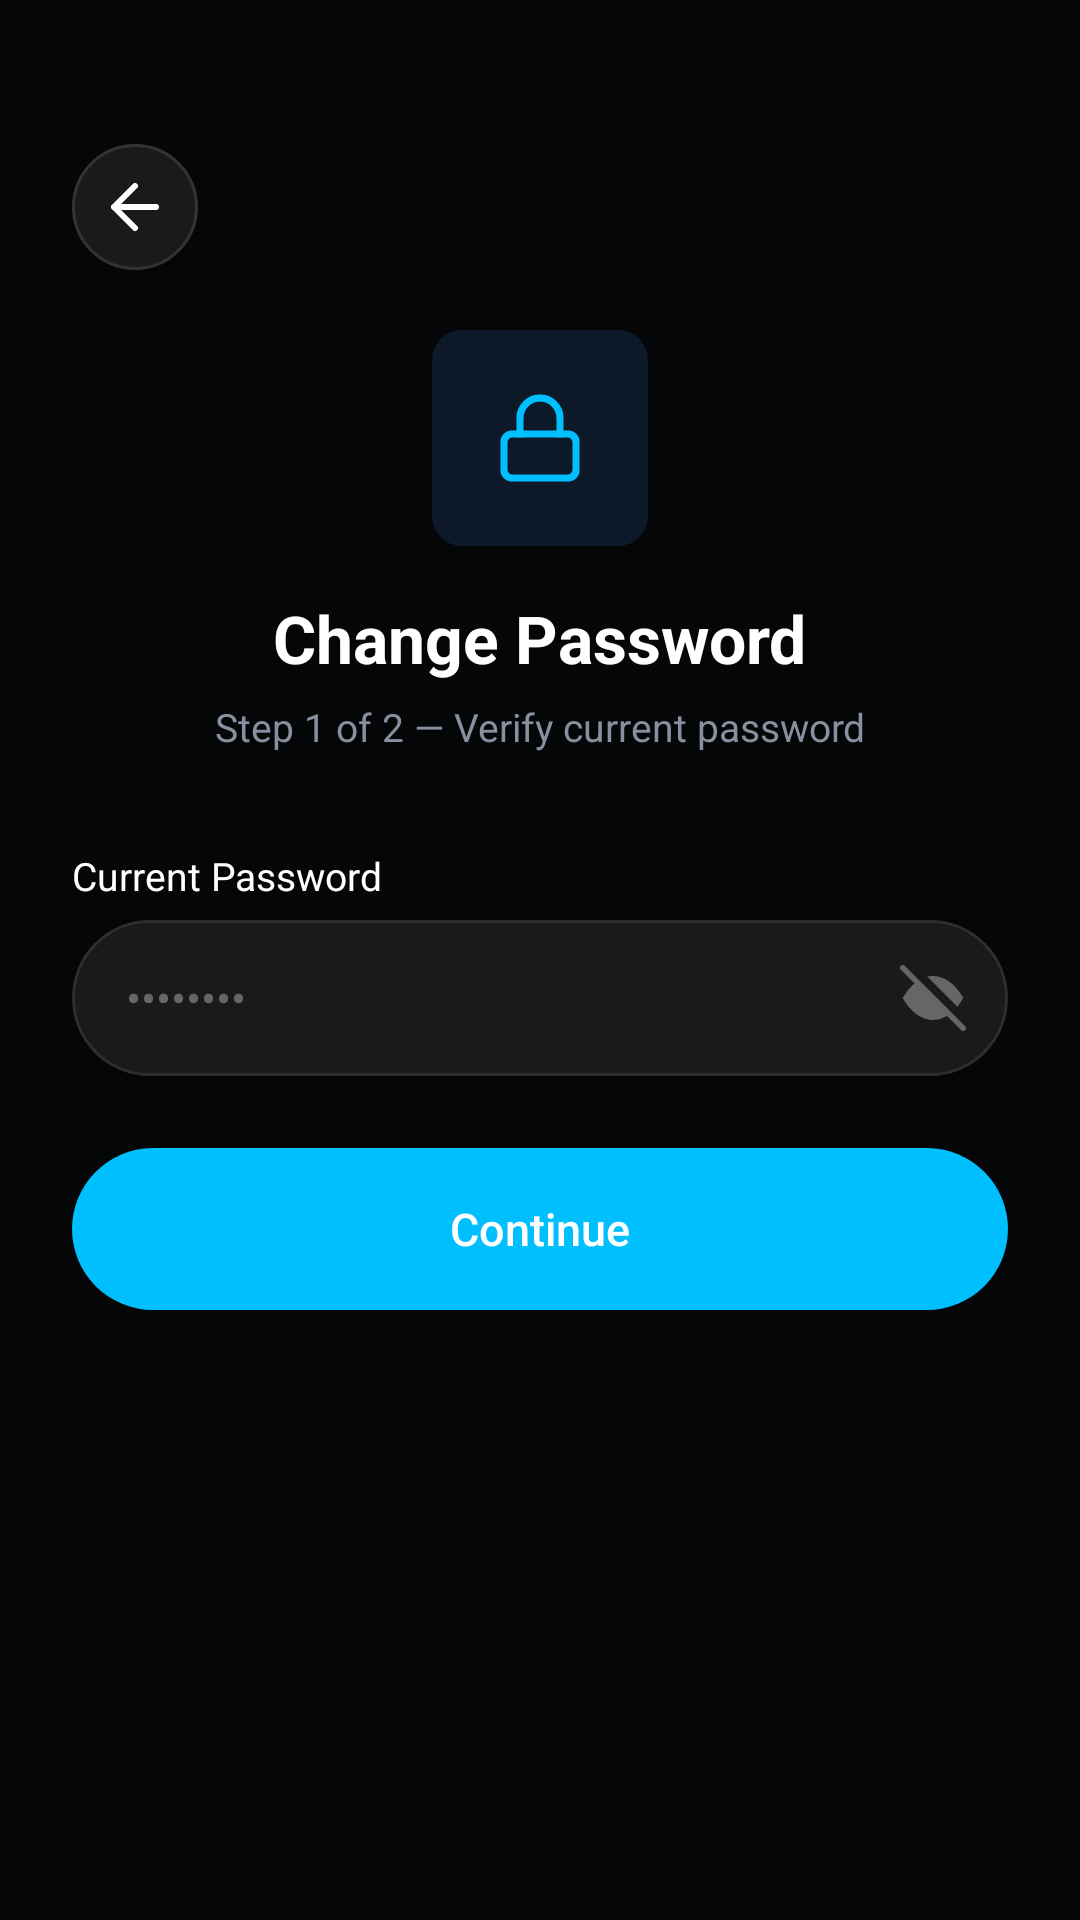

Point at icon controls on the screen. Image size 1080*1920, points as point (x, y).
Back: point (135, 207)
Lock: point (540, 438)
Show: point (933, 998)
